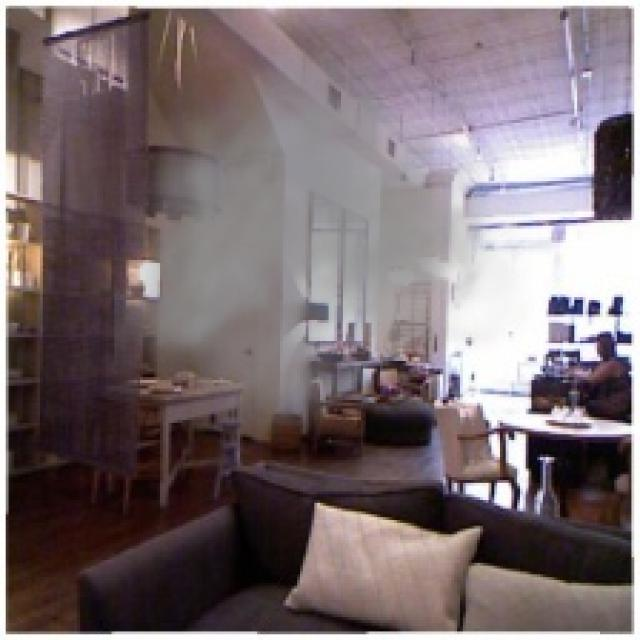smoke: (115, 31, 534, 452)
